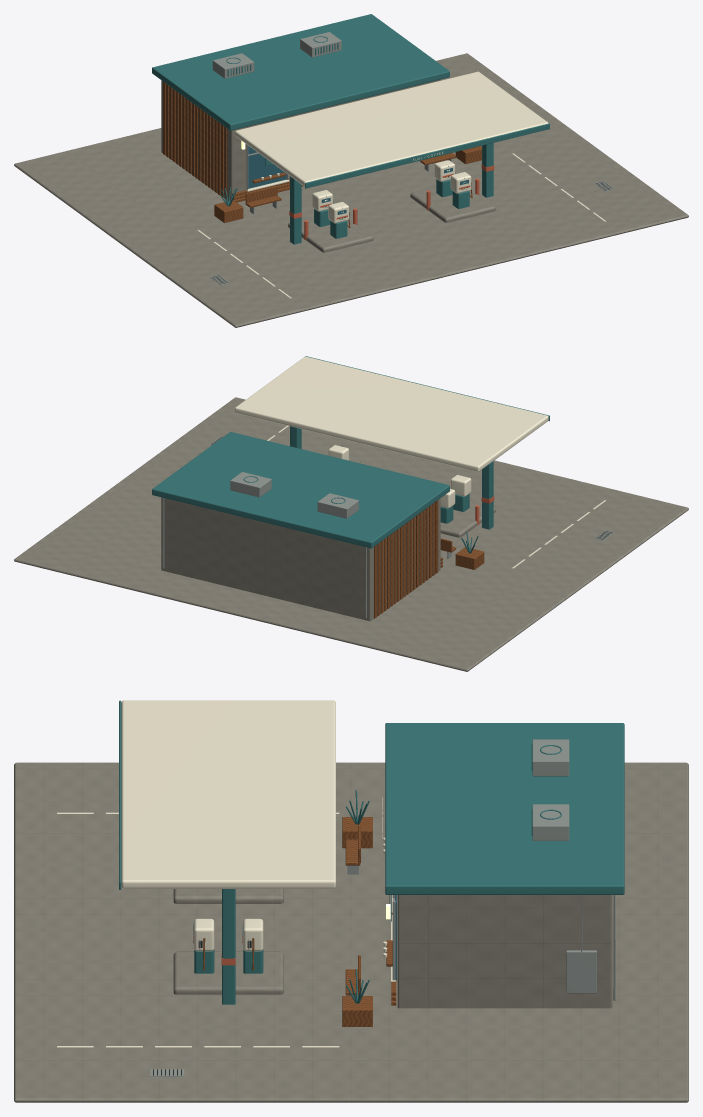
Rendered from last-light-station.glb.
3 renders of one model, top to bottom at view 1: azimuth 30°, elevation 25°; view 2: azimuth 150°, elevation 25°; view 3: azimuth 270°, elevation 25°, orthographic. The views are drawn at different scales.
Parts seen in each view (by area): view 1: Saltwashed plaster, Pacific teal enamel, Station ivory, Weathered cedar, Anodized steel, Storefront reflective glass, Coral accents; view 2: Saltwashed plaster, Station ivory, Pacific teal enamel, Weathered cedar, Anodized steel; view 3: Saltwashed plaster, Station ivory, Pacific teal enamel, Anodized steel, Weathered cedar.
Boxes of the visible parts, x1=… form: Saltwashed plaster: x1=14, y1=53, x2=688, y2=327; Pacific teal enamel: x1=152, y1=14, x2=549, y2=244; Station ivory: x1=198, y1=71, x2=605, y2=298; Weathered cedar: x1=163, y1=81, x2=481, y2=228; Anodized steel: x1=209, y1=32, x2=614, y2=285; Storefront reflective glass: x1=248, y1=146, x2=468, y2=214; Coral accents: x1=289, y1=164, x2=494, y2=239; Saltwashed plaster: x1=14, y1=397, x2=688, y2=671; Station ivory: x1=235, y1=356, x2=605, y2=568; Pacific teal enamel: x1=152, y1=356, x2=549, y2=553; Weathered cedar: x1=374, y1=500, x2=484, y2=618; Anodized steel: x1=162, y1=436, x2=614, y2=617; Saltwashed plaster: x1=14, y1=762, x2=688, y2=1102; Station ivory: x1=57, y1=700, x2=395, y2=1047; Pacific teal enamel: x1=119, y1=700, x2=624, y2=1004; Anodized steel: x1=150, y1=739, x2=615, y2=1076; Weathered cedar: x1=203, y1=817, x2=396, y2=1026.
Bounding box in the file's own units: 26 × 5.27 × 22.
Materials: 9 (2 with a texture image).
